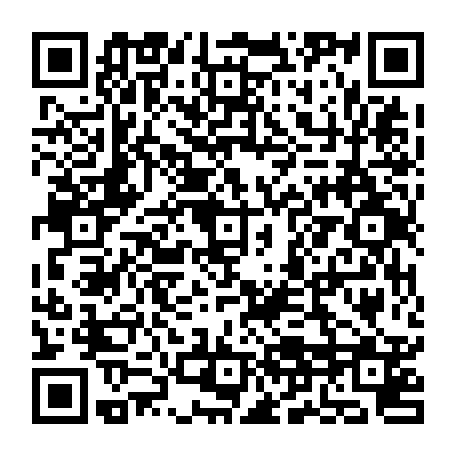QR_CODE: (24, 19, 432, 431)
